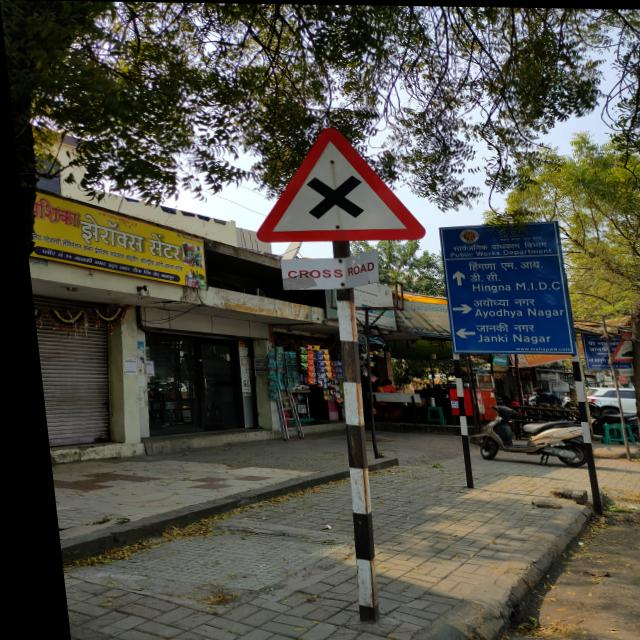CROSS_ROAD: (232, 120, 426, 243)
